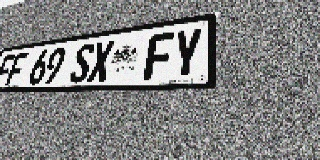6: (27, 49, 52, 85)
9: (41, 47, 67, 84)
F: (143, 31, 175, 80), (5, 52, 28, 86), (0, 54, 16, 86)
S: (68, 43, 96, 83)
X: (87, 40, 115, 82)
Y: (170, 27, 203, 79)
